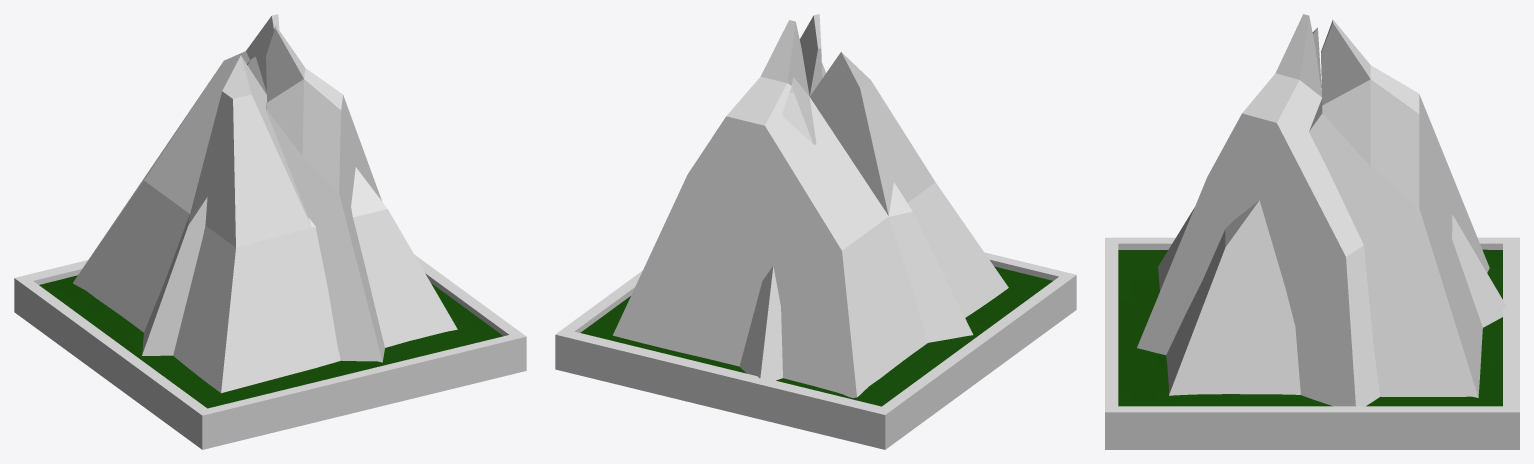
The model's file is mtn.fbx.
3 renders of one model, left to right at view 1: azimuth 30°, elevation 25°; view 2: azimuth 150°, elevation 25°; view 3: azimuth 270°, elevation 25°, orthographic. The views are drawn at different scales.
Parts seen in each view (by area): view 1: Cube.002, Cube, Plane; view 2: Cube.002, Cube, Plane; view 3: Cube.002, Cube, Plane.
Boxes of the visible parts, x1=… form: Cube.002: x1=73, y1=14, x2=457, y2=393; Cube: x1=14, y1=254, x2=526, y2=449; Plane: x1=39, y1=275, x2=503, y2=408; Cube.002: x1=613, y1=14, x2=1008, y2=397; Cube: x1=555, y1=252, x2=1076, y2=449; Plane: x1=580, y1=266, x2=1052, y2=406; Cube.002: x1=1137, y1=14, x2=1506, y2=406; Cube: x1=1105, y1=237, x2=1519, y2=449; Plane: x1=1118, y1=249, x2=1502, y2=406.
Bounding box in the file's own units: 181 × 169 × 182.
